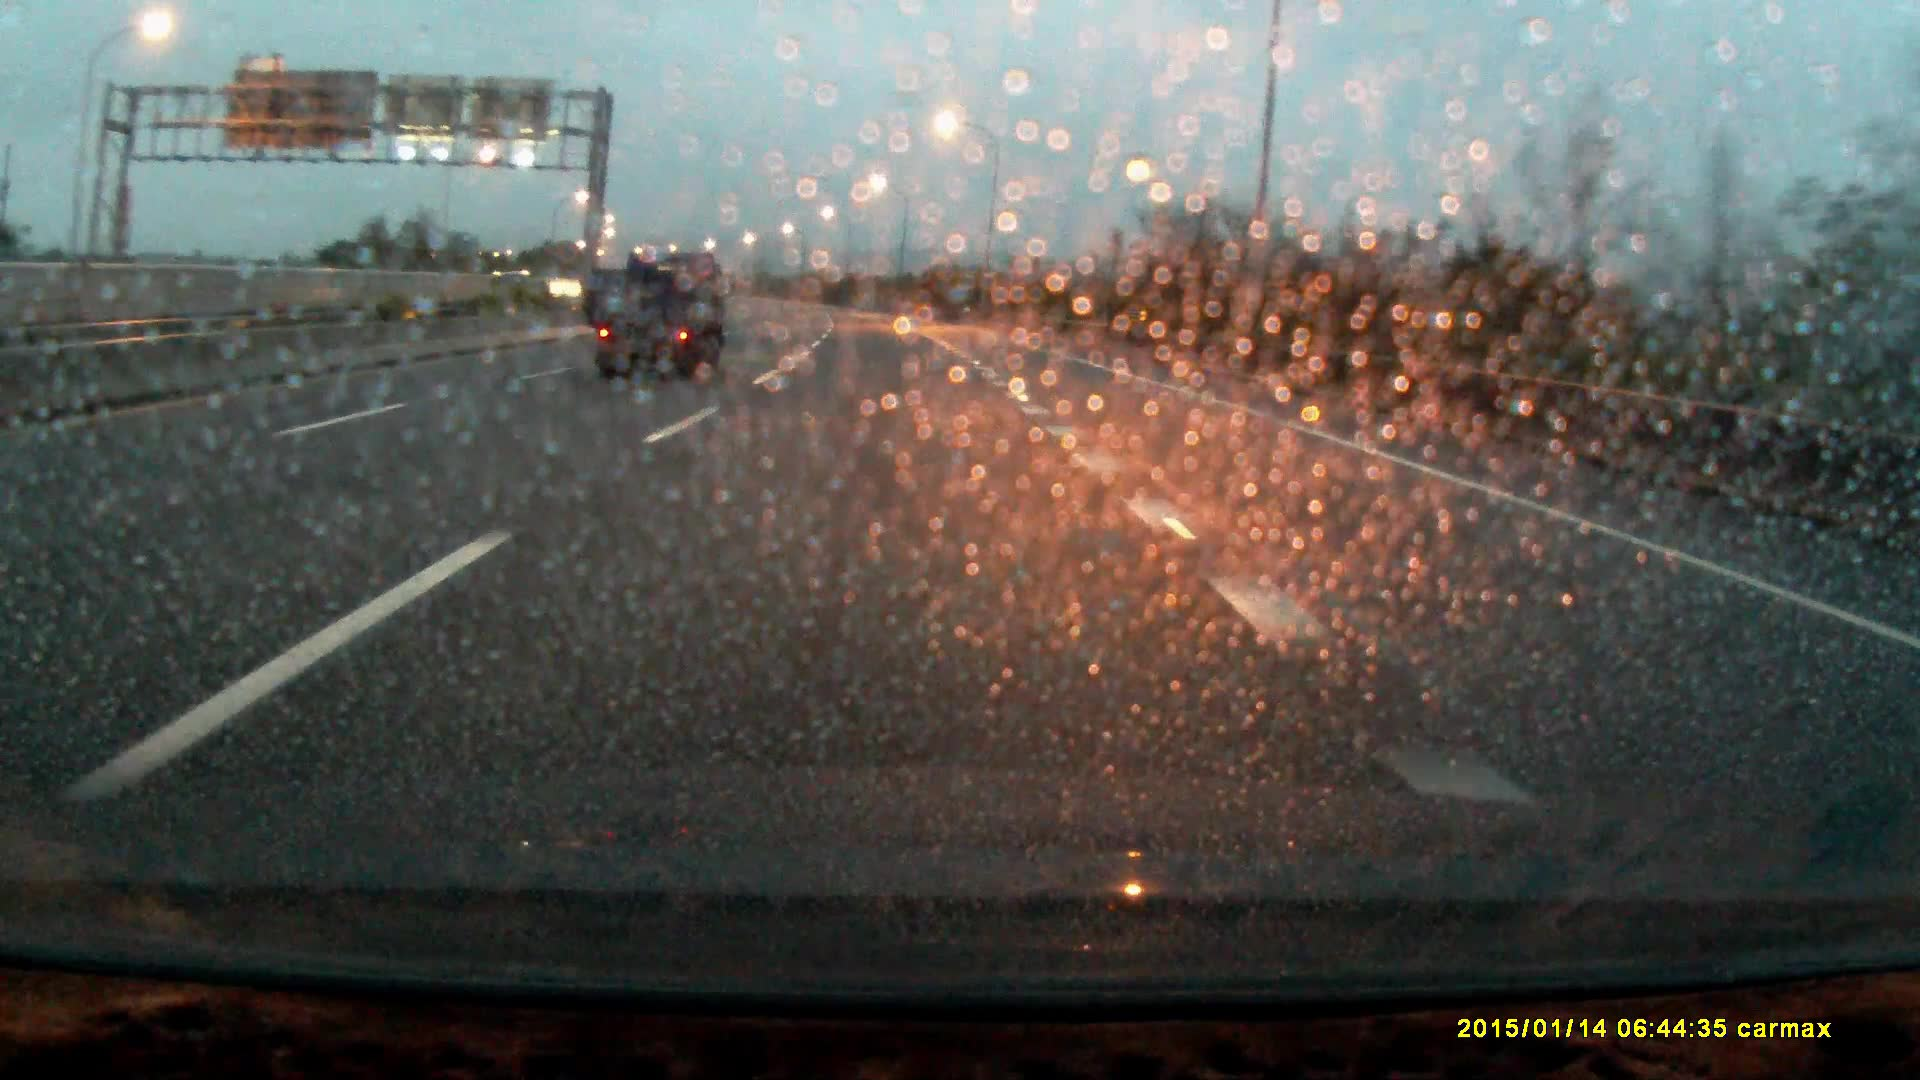vehicle: (591, 255, 731, 378), (491, 273, 572, 309)
